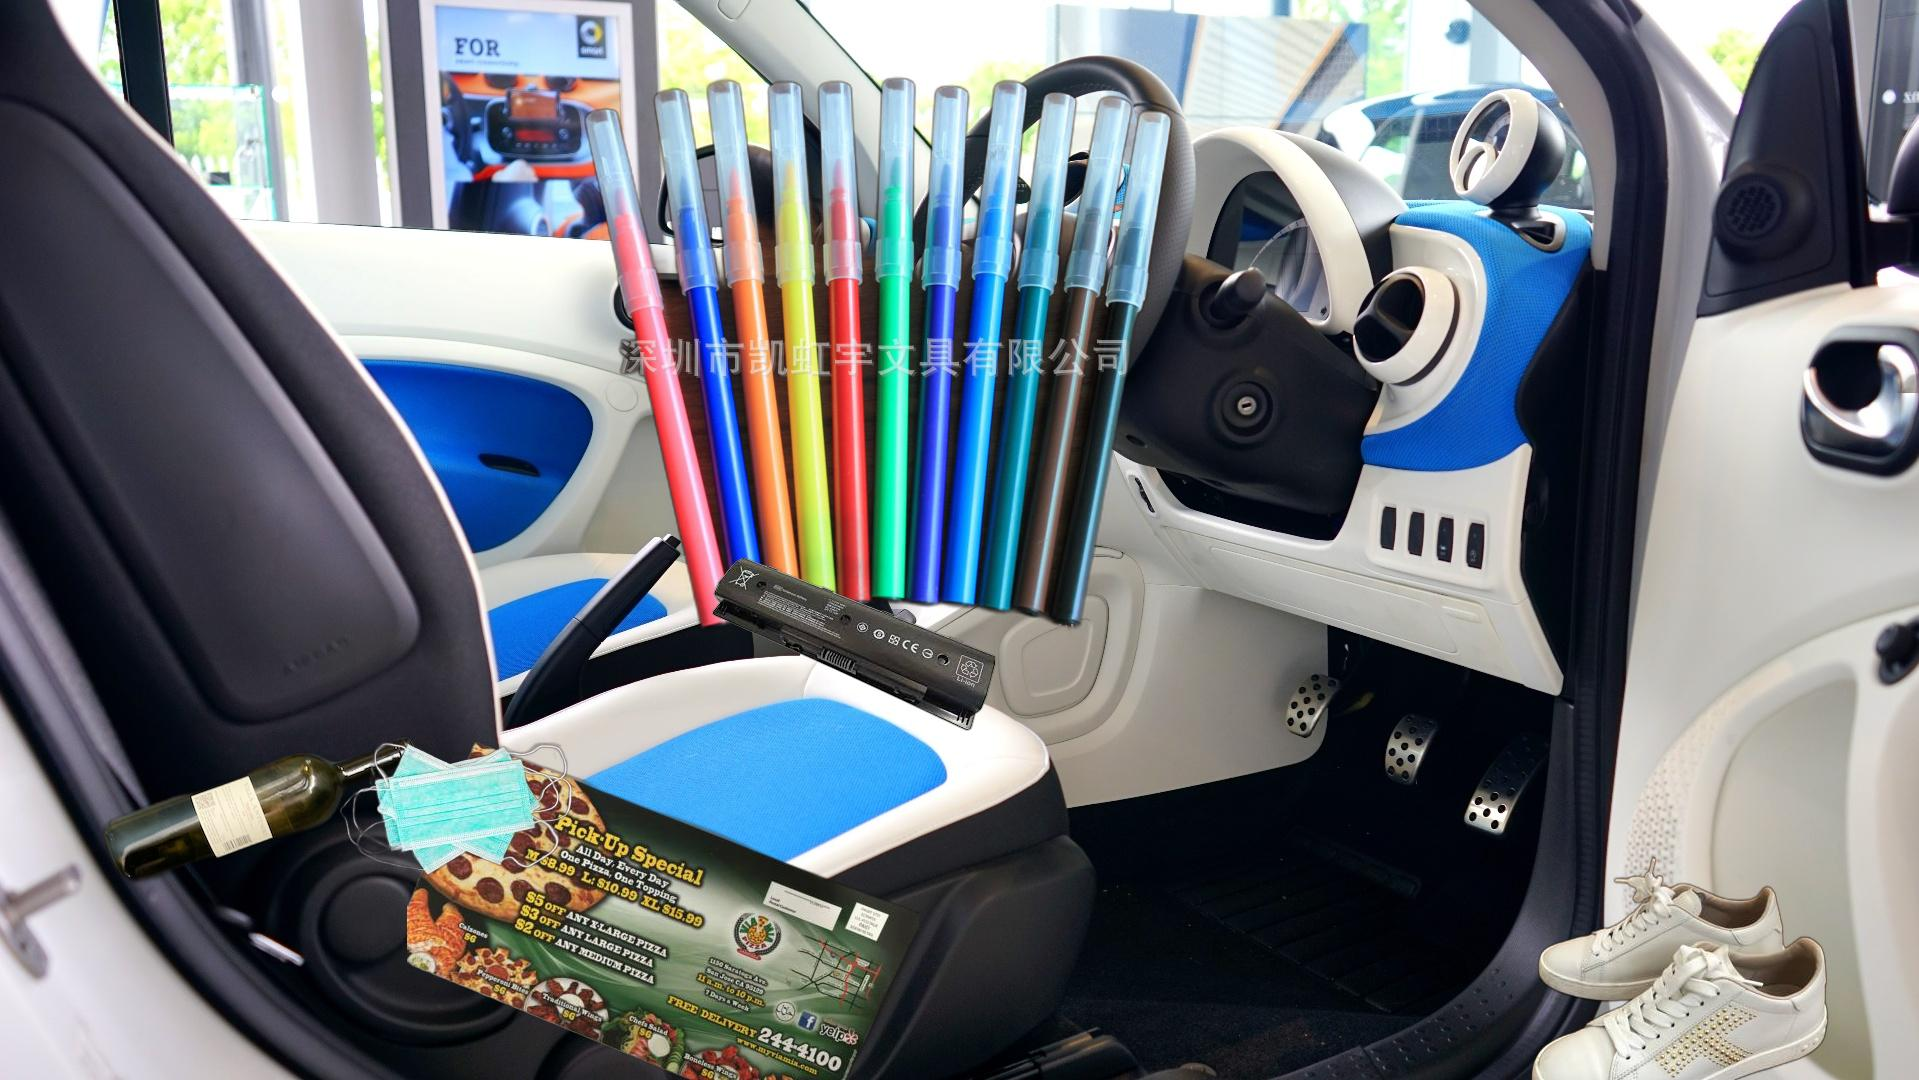battery: (710, 556, 996, 732)
biological: (1877, 133, 1919, 393)
glass: (99, 732, 420, 887)
paper: (407, 738, 919, 1080)
penholder: (579, 73, 1177, 640)
shoes: (1528, 735, 1832, 1080)
trash: (335, 740, 577, 880)
